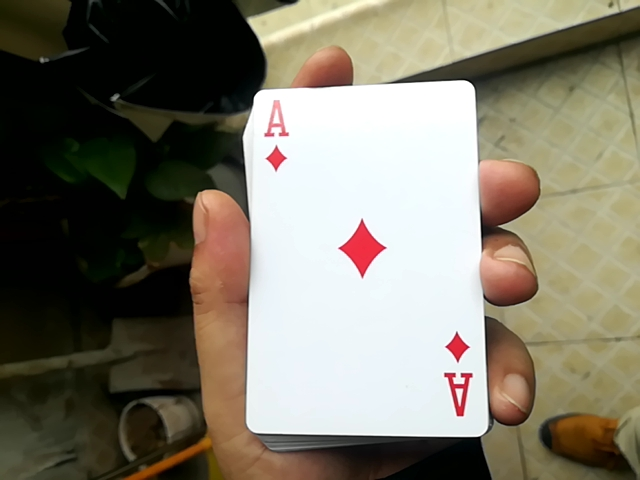fk a: (234, 81, 489, 443)
